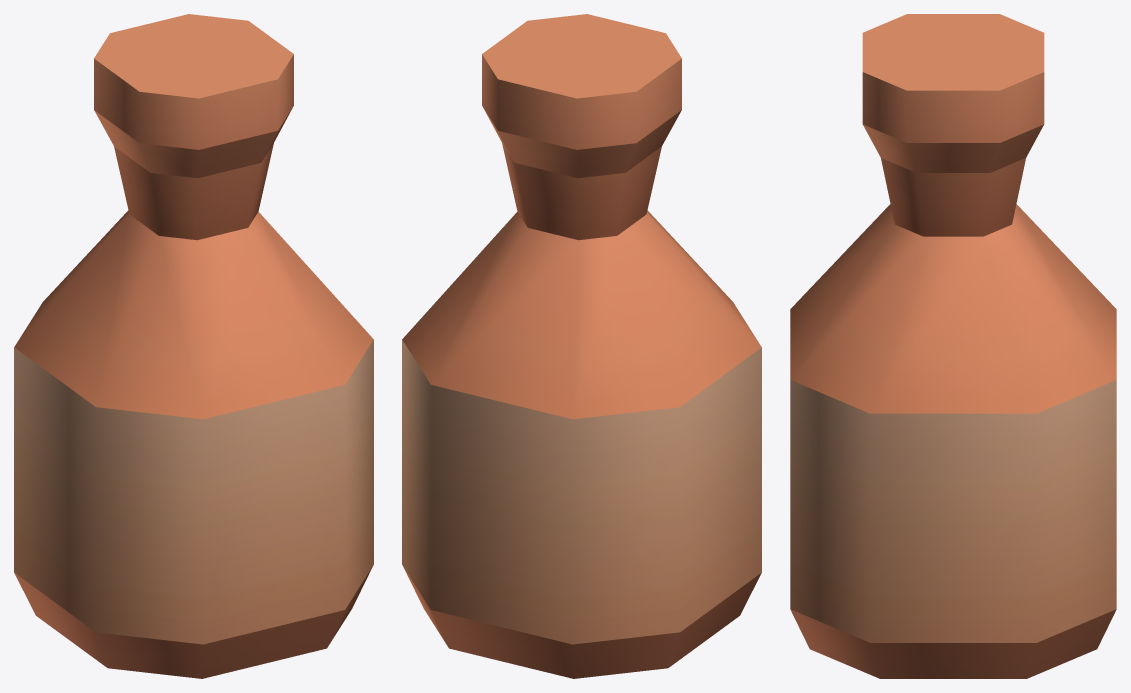
The model's file is kenney-pirate-bottle-large.glb.
3 views of the same model, side by side, from view 1: azimuth 30°, elevation 25°; view 2: azimuth 150°, elevation 25°; view 3: azimuth 270°, elevation 25° (orthographic).
Parts seen in each view (by area): view 1: bottle-large; view 2: bottle-large; view 3: bottle-large.
Part boxes in pixels (x1,y1,x2,y2): bottle-large: [14, 14, 373, 678]; bottle-large: [402, 14, 761, 678]; bottle-large: [790, 14, 1116, 678].
Bounding box in the file's own units: 0.4658 × 0.8905 × 0.4658.
Materials: 1 (1 with a texture image).
